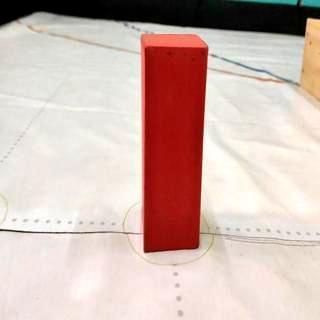redbox: (138, 32, 210, 251)
